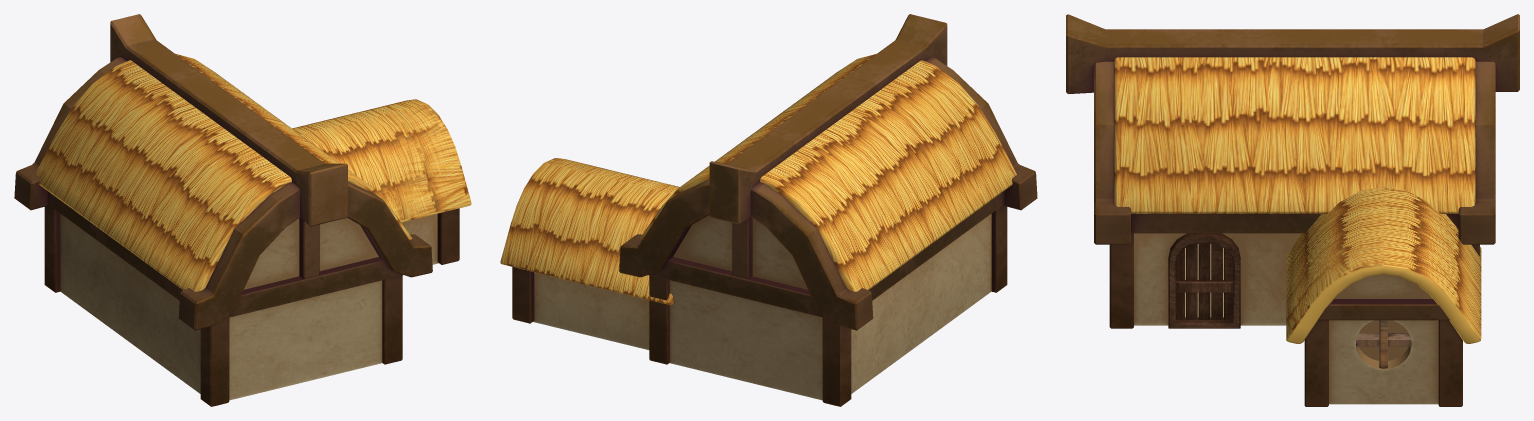
Rendered from Blacksmith.fbx.
3 renders of one model, left to right at view 1: azimuth 30°, elevation 25°; view 2: azimuth 150°, elevation 25°; view 3: azimuth 270°, elevation 25°, orthographic. The views are drawn at different scales.
Parts seen in each view (by area): view 1: Cube.005; view 2: Cube.005; view 3: Cube.005.
Boxes of the visible parts, x1,y1,x2,y2 form: Cube.005: (14, 14, 471, 406); Cube.005: (500, 14, 1037, 406); Cube.005: (1066, 14, 1519, 406).
Bounding box in the file's own units: 640 × 389 × 621.
Materials: 1 (1 with a texture image).
